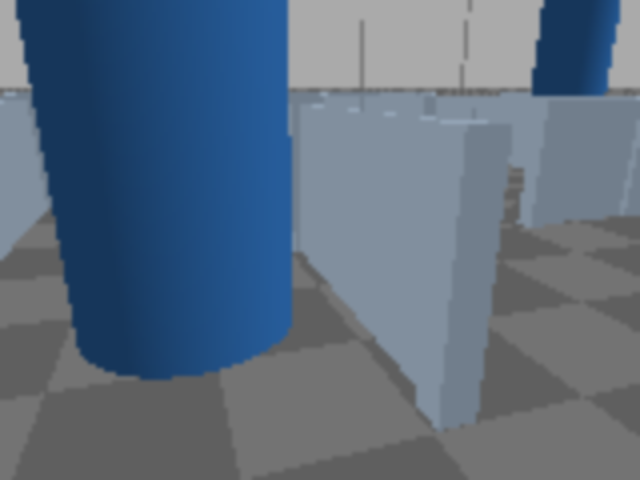person: (0, 0, 290, 375)
